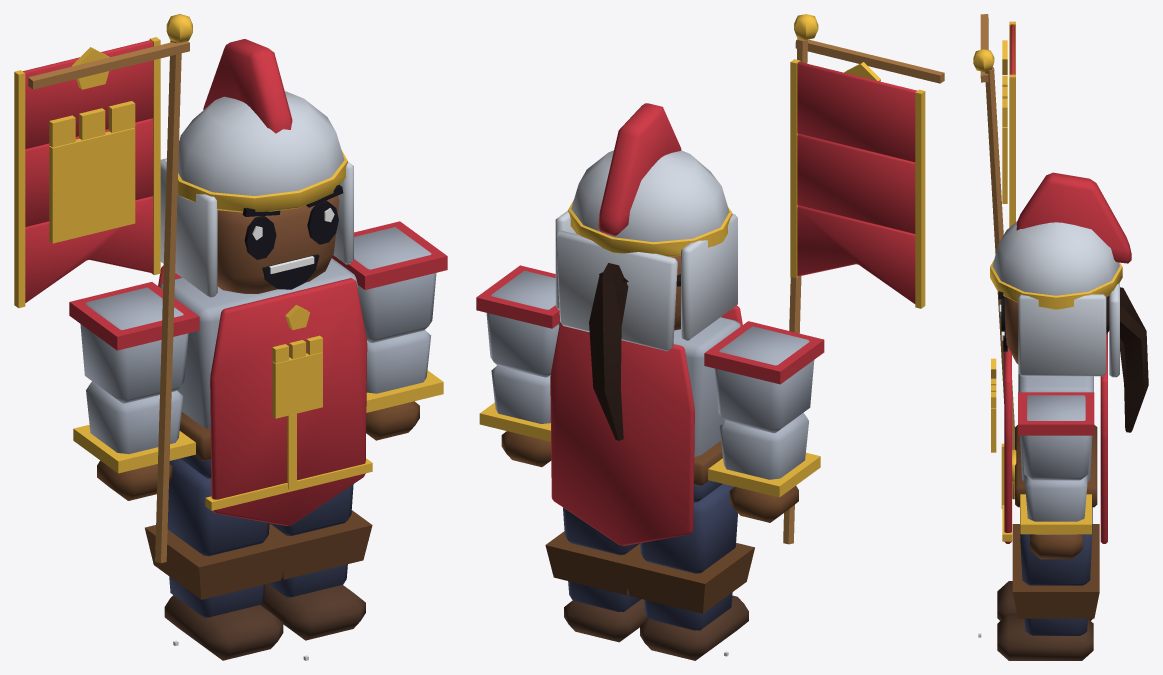
File: BannerBearer.fbx
3 views of the same model, side by side, from view 1: azimuth 30°, elevation 25°; view 2: azimuth 150°, elevation 25°; view 3: azimuth 270°, elevation 25° (orthographic). The views are drawn at different scales.
Visible parts, largest first — view 1: BannerBearer_Tabard_Tabard, BannerBearer_Helmet_Steel, BannerBearer_FlagB_Gold, BannerBearer_Pole_Pole, BannerBearer_RightUpperArm_Mail, BannerBearer_Tabard_Gold, BannerBearer_FlagA_Flag, BannerBearer_FlagC_Flag, BannerBearer_LeftUpperArm_Mail, BannerBearer_Head_Skin, BannerBearer_RightLowerLeg_Leather, BannerBearer_UpperTorso_Mail (+24 smaller); view 2: BannerBearer_Tabard_Tabard, BannerBearer_Helmet_Steel, BannerBearer_FlagA_Flag, BannerBearer_FlagB_Flag, BannerBearer_FlagC_Flag, BannerBearer_RightUpperArm_Mail, BannerBearer_Helmet_Tabard, BannerBearer_RightLowerLeg_Leather, BannerBearer_LeftUpperArm_Mail, BannerBearer_Head_Hair, BannerBearer_RightUpperLeg_Pants, BannerBearer_RightLowerArm_Mail (+20 smaller); view 3: BannerBearer_Helmet_Steel, BannerBearer_Helmet_Tabard, BannerBearer_LeftUpperArm_Mail, BannerBearer_LeftLowerLeg_Leather, BannerBearer_Head_Hair, BannerBearer_LeftFoot_Boot, BannerBearer_Tabard_Tabard, BannerBearer_Pole_Pole, BannerBearer_LeftLowerArm_Mail, BannerBearer_LeftUpperLeg_Pants, BannerBearer_LeftUpperArm_Tabard, BannerBearer_UpperTorso_Mail (+12 smaller).
Boxes of the visible parts, x1,y1,x2,y2 form: BannerBearer_Tabard_Tabard: (158, 265, 367, 525); BannerBearer_Helmet_Steel: (160, 91, 353, 297); BannerBearer_FlagB_Gold: (14, 47, 160, 243); BannerBearer_Pole_Pole: (28, 40, 189, 563); BannerBearer_RightUpperArm_Mail: (80, 287, 188, 403); BannerBearer_Tabard_Gold: (205, 305, 372, 510); BannerBearer_FlagA_Flag: (23, 40, 153, 149); BannerBearer_FlagC_Flag: (25, 196, 153, 302); BannerBearer_LeftUpperArm_Mail: (354, 227, 436, 342); BannerBearer_Head_Skin: (217, 195, 339, 293); BannerBearer_RightLowerLeg_Leather: (145, 525, 289, 599); BannerBearer_UpperTorso_Mail: (160, 258, 357, 429); BannerBearer_Tabard_Tabard: (550, 305, 742, 545); BannerBearer_Helmet_Steel: (555, 150, 737, 351); BannerBearer_FlagA_Flag: (797, 62, 916, 162); BannerBearer_FlagB_Flag: (797, 134, 915, 233); BannerBearer_FlagC_Flag: (797, 205, 915, 303); BannerBearer_RightUpperArm_Mail: (714, 326, 814, 433); BannerBearer_Helmet_Tabard: (598, 103, 681, 235); BannerBearer_RightLowerLeg_Leather: (622, 543, 754, 613); BannerBearer_LeftUpperArm_Mail: (486, 270, 559, 377); BannerBearer_Head_Hair: (589, 263, 680, 440); BannerBearer_RightUpperLeg_Pants: (640, 484, 737, 573); BannerBearer_RightLowerArm_Mail: (719, 413, 808, 479); BannerBearer_Helmet_Steel: (992, 221, 1119, 377); BannerBearer_Helmet_Tabard: (1016, 172, 1131, 263); BannerBearer_LeftUpperArm_Mail: (1022, 395, 1090, 480); BannerBearer_LeftLowerLeg_Leather: (1012, 559, 1099, 618); BannerBearer_Head_Hair: (1106, 287, 1148, 432); BannerBearer_LeftFoot_Boot: (997, 613, 1093, 660); BannerBearer_Tabard_Tabard: (1004, 333, 1107, 543); BannerBearer_Pole_Pole: (980, 14, 1014, 499); BannerBearer_LeftLowerArm_Mail: (1025, 475, 1087, 534); BannerBearer_LeftUpperLeg_Pants: (1020, 507, 1092, 585); BannerBearer_LeftUpperArm_Tabard: (1018, 392, 1094, 435); BannerBearer_UpperTorso_Mail: (1018, 374, 1093, 482).
Size of the model in its own units: 5.3 by 7.79 by 2.3.
